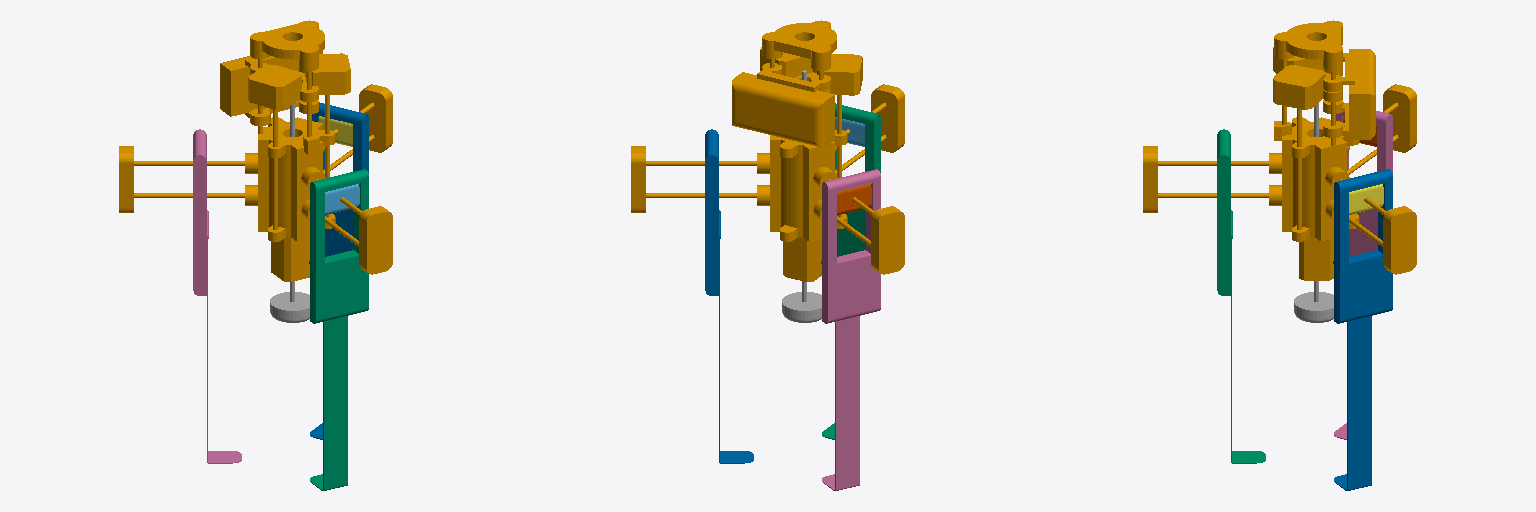
robot.urdf — gripper:
<?xml version="1.0" ?>
<!-- =================================================================================== -->
<!-- |    This document was autogenerated by xacro from gripper.urdf.xacro             | -->
<!-- |    EDITING THIS FILE BY HAND IS NOT RECOMMENDED                                 | -->
<!-- =================================================================================== -->
<robot name="gripper">
  <!-- PARAMETERS TO BE SET BY HAND -->
  <!-- END OF PARAMETERS TO BE SET BY HAND -->
  <!-- PARAMETERS TO BE SET BY HAND -->
  <!-- END OF PARAMETER TO BE SET BY HAND -->
  <!-- BASE LINK -->
  <link name="gripper_base_link">
    <inertial>
      <mass value="1.5"/>
      <origin rpy="3.141592653589793 0 0" xyz="0 0 0.025"/>
      <inertia ixx="9.95e-3" ixy="2.73e-6" ixz="-14.32e-6" iyy="10.08e-3" iyz="121.38e-6" izz="5.13e-3"/>
    </inertial>
    <visual>
      <geometry>
        <mesh filename="package://gripper_description/meshes/main body visual.STL"/>
      </geometry>
    </visual>
    <collision>
      <geometry>
        <!--          <mesh filename="package://gripper_description/meshes/main body collision.STL"/>-->
        <cylinder length="0.1" radius="0.03"/>
      </geometry>
    </collision>
  </link>
  <!-- Intermediate link for prismatic joint -->
  <link name="finger_1_intermediate">
    <inertial>
      <mass value="0.1"/>
      <origin rpy="0 0 0" xyz="0 0 0"/>
      <inertia ixx="55.59e-6" ixy="-47.23e-6" ixz="1.16e-6" iyy="146.36e-6" iyz="1.00e-6" izz="154.18e-6"/>
    </inertial>
    <visual>
      <geometry>
        <mesh filename="package://gripper_description/meshes/nut visual.STL"/>
      </geometry>
    </visual>
    <collision>
      <geometry>
        <mesh filename="package://gripper_description/meshes/nut collision.STL"/>
      </geometry>
    </collision>
  </link>
  <!-- Main finger link -->
  <link name="finger_1">
    <inertial>
      <mass value="0.2"/>
      <origin rpy="0 0 0" xyz="0 0 0"/>
      <inertia ixx="283.44e-6" ixy="-567.23e-6" ixz="-6.59e-6" iyy="1.38e-3" iyz="2.40e-6" izz="1.60e-3"/>
    </inertial>
    <visual>
      <geometry>
        <mesh filename="package://gripper_description/meshes/finger platform visual.STL"/>
      </geometry>
    </visual>
    <collision>
      <geometry>
        <mesh filename="package://gripper_description/meshes/finger platform collision.STL"/>
      </geometry>
    </collision>
  </link>
  <joint name="finger_1_prismatic_joint" type="prismatic">
    <axis rpy="0 0 0" xyz="0 1 0"/>
    <parent link="gripper_base_link"/>
    <child link="finger_1_intermediate"/>
    <origin rpy="4.71238898038469                    4.71238898038469                    1.5707963267948966" xyz="0.0                    0.0                    0"/>
    <limit effort="40.0" lower="0.049" upper="0.134" velocity="0.015"/>
    <dynamics damping="1.0"/>
  </joint>
  <joint name="finger_1_revolute_joint" type="revolute">
    <axis rpy="0 0 0" xyz="0 0 1"/>
    <parent link="finger_1_intermediate"/>
    <child link="finger_1"/>
    <origin rpy="0 0 0.0" xyz="0 0 0"/>
    <limit effort="40.0" lower="-0.7" upper="0.7" velocity="0.1"/>
    <dynamics damping="1.0"/>
  </joint>
  <!-- Intermediate link for prismatic joint -->
  <link name="finger_2_intermediate">
    <inertial>
      <mass value="0.1"/>
      <origin rpy="0 0 0" xyz="0 0 0"/>
      <inertia ixx="55.59e-6" ixy="-47.23e-6" ixz="1.16e-6" iyy="146.36e-6" iyz="1.00e-6" izz="154.18e-6"/>
    </inertial>
    <visual>
      <geometry>
        <mesh filename="package://gripper_description/meshes/nut visual.STL"/>
      </geometry>
    </visual>
    <collision>
      <geometry>
        <mesh filename="package://gripper_description/meshes/nut collision.STL"/>
      </geometry>
    </collision>
  </link>
  <!-- Main finger link -->
  <link name="finger_2">
    <inertial>
      <mass value="0.2"/>
      <origin rpy="0 0 0" xyz="0 0 0"/>
      <inertia ixx="283.44e-6" ixy="-567.23e-6" ixz="-6.59e-6" iyy="1.38e-3" iyz="2.40e-6" izz="1.60e-3"/>
    </inertial>
    <visual>
      <geometry>
        <mesh filename="package://gripper_description/meshes/finger platform visual.STL"/>
      </geometry>
    </visual>
    <collision>
      <geometry>
        <mesh filename="package://gripper_description/meshes/finger platform collision.STL"/>
      </geometry>
    </collision>
  </link>
  <joint name="finger_2_prismatic_joint" type="prismatic">
    <axis rpy="0 0 0" xyz="0 1 0"/>
    <parent link="gripper_base_link"/>
    <child link="finger_2_intermediate"/>
    <origin rpy="4.71238898038469                    4.71238898038469                    -0.5235987755982987" xyz="0.0                    -0.0                    0"/>
    <limit effort="40.0" lower="0.049" upper="0.134" velocity="0.015"/>
    <dynamics damping="1.0"/>
  </joint>
  <joint name="finger_2_revolute_joint" type="revolute">
    <axis rpy="0 0 0" xyz="0 0 1"/>
    <parent link="finger_2_intermediate"/>
    <child link="finger_2"/>
    <origin rpy="0 0 0.0" xyz="0 0 0"/>
    <limit effort="40.0" lower="-0.7" upper="0.7" velocity="0.1"/>
    <dynamics damping="1.0"/>
  </joint>
  <!-- Intermediate link for prismatic joint -->
  <link name="finger_3_intermediate">
    <inertial>
      <mass value="0.1"/>
      <origin rpy="0 0 0" xyz="0 0 0"/>
      <inertia ixx="55.59e-6" ixy="-47.23e-6" ixz="1.16e-6" iyy="146.36e-6" iyz="1.00e-6" izz="154.18e-6"/>
    </inertial>
    <visual>
      <geometry>
        <mesh filename="package://gripper_description/meshes/nut visual.STL"/>
      </geometry>
    </visual>
    <collision>
      <geometry>
        <mesh filename="package://gripper_description/meshes/nut collision.STL"/>
      </geometry>
    </collision>
  </link>
  <!-- Main finger link -->
  <link name="finger_3">
    <inertial>
      <mass value="0.2"/>
      <origin rpy="0 0 0" xyz="0 0 0"/>
      <inertia ixx="283.44e-6" ixy="-567.23e-6" ixz="-6.59e-6" iyy="1.38e-3" iyz="2.40e-6" izz="1.60e-3"/>
    </inertial>
    <visual>
      <geometry>
        <mesh filename="package://gripper_description/meshes/finger platform visual.STL"/>
      </geometry>
    </visual>
    <collision>
      <geometry>
        <mesh filename="package://gripper_description/meshes/finger platform collision.STL"/>
      </geometry>
    </collision>
  </link>
  <joint name="finger_3_prismatic_joint" type="prismatic">
    <axis rpy="0 0 0" xyz="0 1 0"/>
    <parent link="gripper_base_link"/>
    <child link="finger_3_intermediate"/>
    <origin rpy="4.71238898038469                    4.71238898038469                    -2.617993877991494" xyz="-0.0                    -0.0                    0"/>
    <limit effort="40.0" lower="0.049" upper="0.134" velocity="0.015"/>
    <dynamics damping="1.0"/>
  </joint>
  <joint name="finger_3_revolute_joint" type="revolute">
    <axis rpy="0 0 0" xyz="0 0 1"/>
    <parent link="finger_3_intermediate"/>
    <child link="finger_3"/>
    <origin rpy="0 0 0.0" xyz="0 0 0"/>
    <limit effort="40.0" lower="-0.7" upper="0.7" velocity="0.1"/>
    <dynamics damping="1.0"/>
  </joint>
  <!-- PALM -->
  <link name="palm">
    <inertial>
      <mass value="0.05"/>
      <origin rpy="0 0 0" xyz="0 0 0"/>
      <inertia ixx="10.0e-6" ixy="0.0" ixz="0.0" iyy="10.0e-6" iyz="0.0" izz="10.0e-6"/>
    </inertial>
    <visual>
      <origin rpy="0 0 0" xyz="0 0 0"/>
      <geometry>
        <mesh filename="package://gripper_description/meshes/palm visual.STL"/>
      </geometry>
    </visual>
    <collision>
      <geometry>
        <mesh filename="package://gripper_description/meshes/palm collision.STL"/>
      </geometry>
    </collision>
  </link>
  <joint name="palm_prismatic_joint" type="prismatic">
    <axis rpy="0 0 0" xyz="1 0 0"/>
    <parent link="gripper_base_link"/>
    <child link="palm"/>
    <origin rpy="0 -1.5707963267948966 0" xyz="0 0 0"/>
    <limit effort="40.0" lower="0.0" upper="0.165" velocity="0.036"/>
    <dynamics damping="1.0"/>
  </joint>
  <!-- attach gripper to the ground for gazebo -->
  <link name="world"/>
  <joint name="world_to_base" type="fixed">
    <origin rpy="3.141592653589793 0 0" xyz="0 0 1"/>
    <parent link="world"/>
    <child link="gripper_base_link"/>
  </joint>
</robot>

--- Facts derived from the render (not from the file) ---
Views: 3 orthographic renders of the robot side by side, from view 1: azimuth 30°, elevation 25°; view 2: azimuth 150°, elevation 25°; view 3: azimuth 270°, elevation 25°.
Robot: gripper — 9 links, 8 joints (3 revolute, 4 prismatic, 1 fixed); root link world; default pose: joints at zero except 3 at the middle of their limits (finger_1_prismatic_joint = 0.0915, finger_2_prismatic_joint = 0.0915, finger_3_prismatic_joint = 0.0915).
Visible links, largest first — view 1: gripper_base_link, finger_1, finger_3, finger_2, palm, finger_1_intermediate; view 2: gripper_base_link, finger_3, finger_2, finger_1, palm, finger_3_intermediate; view 3: gripper_base_link, finger_2, finger_1, finger_3, palm, finger_2_intermediate.
Boxes of the visible links, x1,y1,x2,y2 form: gripper_base_link: (119,20,392,281); finger_1: (309,169,368,490); finger_3: (193,129,241,463); finger_2: (310,102,368,439); palm: (270,103,309,322); finger_1_intermediate: (325,184,359,214); gripper_base_link: (631,20,904,281); finger_3: (821,169,880,490); finger_2: (705,129,753,463); finger_1: (822,103,880,439); palm: (782,70,821,322); finger_3_intermediate: (837,184,871,214); gripper_base_link: (1143,20,1416,280); finger_2: (1333,169,1392,490); finger_1: (1217,129,1265,463); finger_3: (1334,102,1392,439); palm: (1294,103,1333,322); finger_2_intermediate: (1349,184,1383,214).
Size in the robot's own frame: 0.3116 by 0.2699 by 0.4578 metres.
8 mesh visuals loaded from 4 distinct referenced files (4 binary STL).